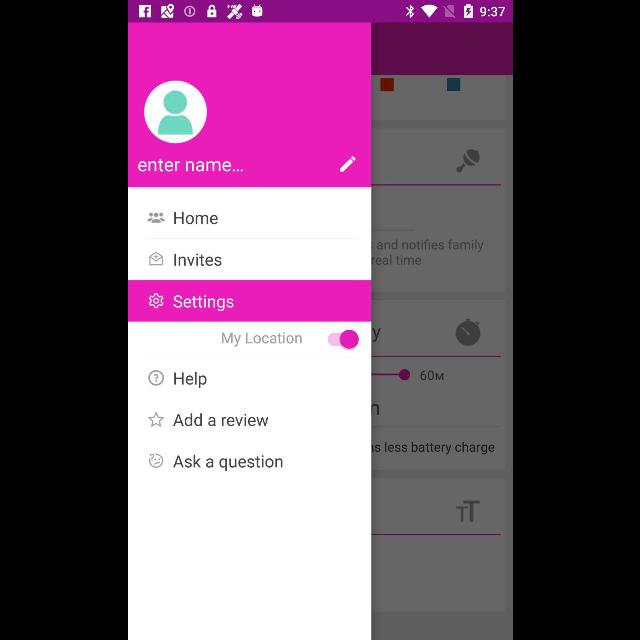icon: (144, 80, 206, 144), (338, 156, 356, 172), (148, 370, 164, 386), (148, 411, 164, 427), (149, 252, 163, 266), (149, 294, 163, 308), (148, 212, 164, 224)
image: (149, 454, 163, 468)
panel: (127, 24, 370, 640)
switch: (326, 329, 358, 348)
text: (172, 454, 282, 472), (136, 159, 244, 173), (172, 413, 268, 427), (221, 332, 301, 346), (172, 294, 232, 312), (174, 253, 222, 267), (173, 211, 219, 225), (174, 372, 206, 388)
uppertaskbar: (128, 1, 512, 23)
